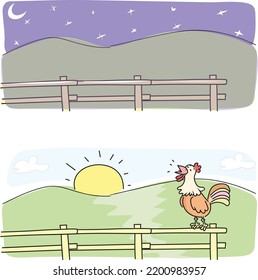bird: (175, 160, 231, 230)
sun: (60, 148, 134, 195)
